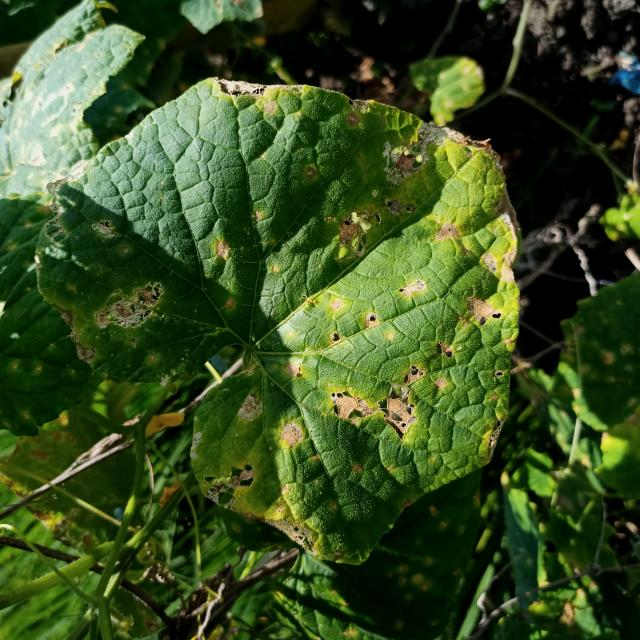disease_cucumber: (69, 90, 512, 555)
